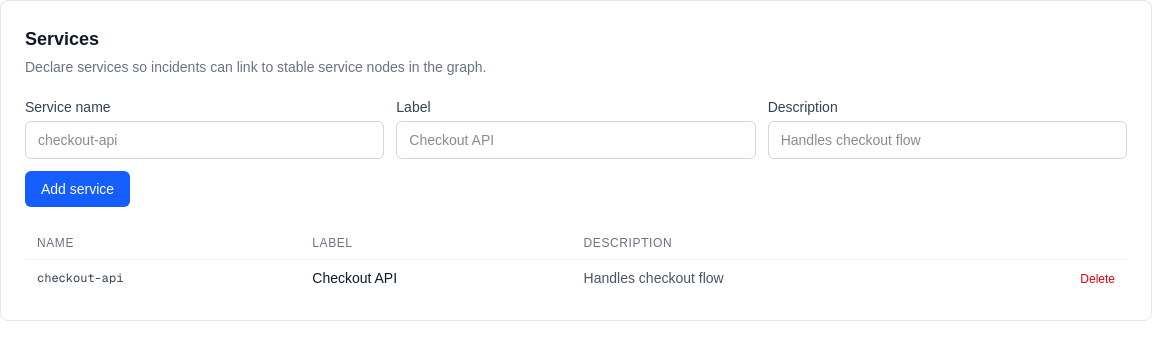
it: GraphServicesSection › deletes a service after API success
Expected: the text "checkout-api" is shown, [25,260,300,296]
Click the button "Delete".
click(1098, 279)  # box [1080,271,1115,287]
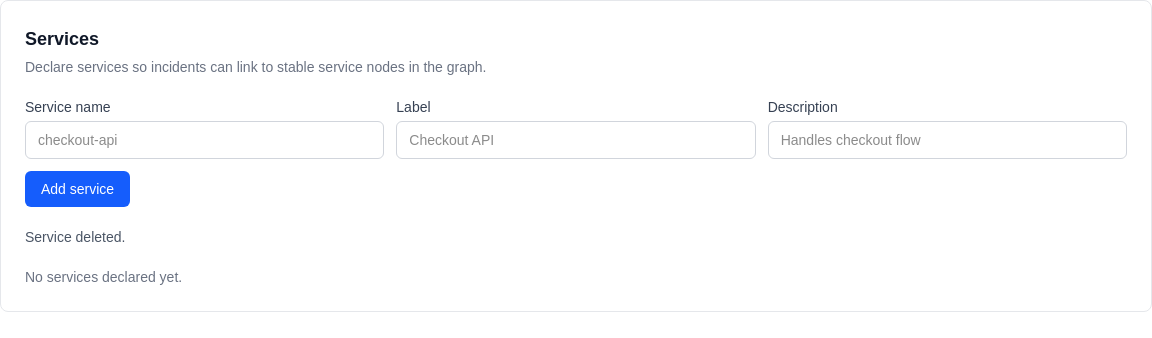
Expected: the text "Service deleted." is shown, [25,229,125,245]
